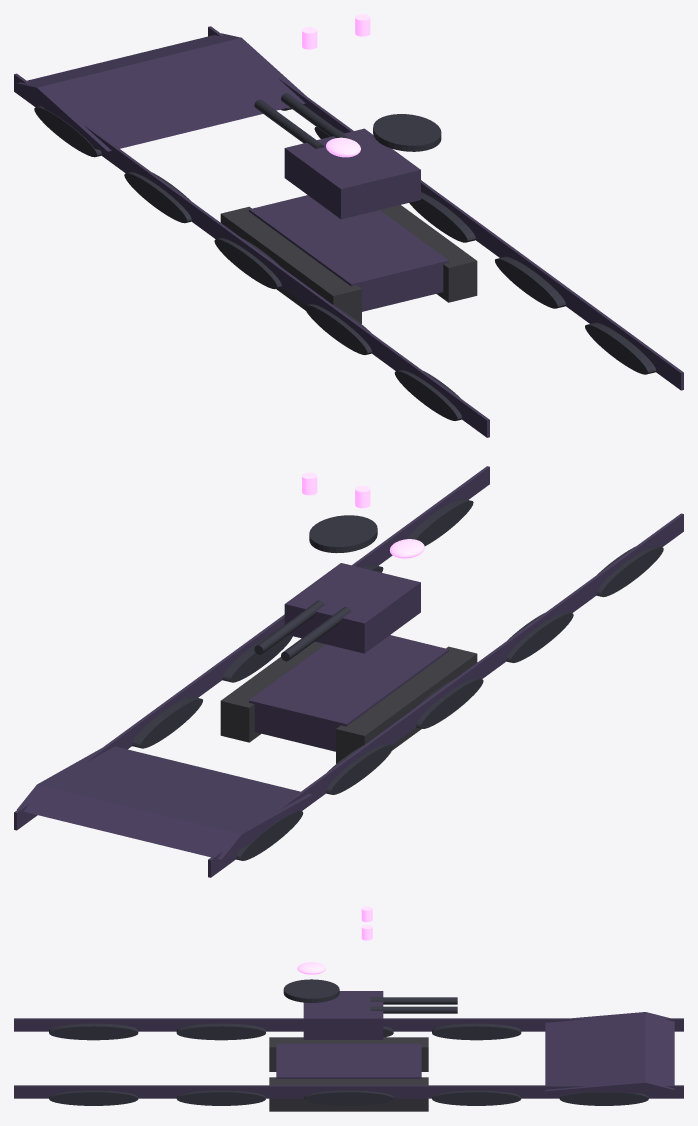
File: CH_TimelineTank_LOD0.glb
3 renders of one model, top to bottom at view 1: azimuth 30°, elevation 25°; view 2: azimuth 150°, elevation 25°; view 3: azimuth 270°, elevation 25°, orthographic. The views are drawn at different scales.
Parts seen in each view (by area): view 1: Cube.001, Cube, Cube.006, Cube.003, Cube.005, Cube.002, Cube.004, Cylinder.010, Cylinder.005, Cylinder.006, Cylinder.003, Cylinder.007 (+6 smaller); view 2: Cube.001, Cube, Cube.006, Cube.003, Cube.005, Cube.002, Cube.004, Cylinder.010, Cylinder.008, Cylinder, Cylinder.002, Cylinder.001 (+6 smaller); view 3: Cube.001, Cube.005, Cube, Cube.003, Cube.006, Cube.004, Cube.002, Cylinder.001, Cylinder.003, Cylinder, Cylinder.005, Cylinder.007 (+6 smaller).
Boxes of the visible parts, left/top/right/bottom form: Cube.001: left=16, top=33, right=305, bottom=151; Cube: left=249, top=195, right=448, bottom=311; Cube.006: left=284, top=128, right=420, bottom=219; Cube.003: left=14, top=73, right=489, bottom=437; Cube.005: left=208, top=26, right=683, bottom=390; Cube.002: left=220, top=206, right=361, bottom=323; Cube.004: left=380, top=205, right=477, bottom=302; Cylinder.010: left=373, top=114, right=441, bottom=151; Cylinder.005: left=585, top=322, right=656, bottom=374; Cylinder.006: left=495, top=256, right=565, bottom=308; Cylinder.003: left=124, top=172, right=191, bottom=223; Cylinder.007: left=409, top=192, right=475, bottom=242; Cube.001: left=17, top=746, right=312, bottom=859; Cube: left=249, top=635, right=448, bottom=751; Cube.006: left=284, top=563, right=420, bottom=653; Cube.003: left=208, top=513, right=683, bottom=877; Cube.005: left=14, top=466, right=489, bottom=830; Cube.002: left=336, top=646, right=477, bottom=763; Cube.004: left=220, top=641, right=325, bottom=742; Cylinder.010: left=309, top=515, right=377, bottom=553; Cylinder.008: left=132, top=696, right=202, bottom=748; Cylinder: left=596, top=546, right=663, bottom=597; Cylinder.002: left=416, top=678, right=483, bottom=728; Cylinder.001: left=506, top=612, right=573, bottom=662; Cube.001: left=545, top=1012, right=674, bottom=1095; Cube.005: left=14, top=1085, right=683, bottom=1098; Cube: left=276, top=1043, right=421, bottom=1078; Cube.003: left=14, top=1018, right=683, bottom=1031; Cube.006: left=303, top=991, right=383, bottom=1039; Cube.004: left=269, top=1077, right=428, bottom=1111; Cube.002: left=269, top=1037, right=428, bottom=1071; Cylinder.001: left=176, top=1023, right=265, bottom=1040; Cylinder.003: left=432, top=1023, right=521, bottom=1040; Cylinder: left=49, top=1023, right=138, bottom=1040; Cylinder.005: left=49, top=1090, right=138, bottom=1105; Cylinder.007: left=304, top=1090, right=393, bottom=1105.
Size of what is drawn, in the model's own units: 4.65 by 5.15 by 18.48.
